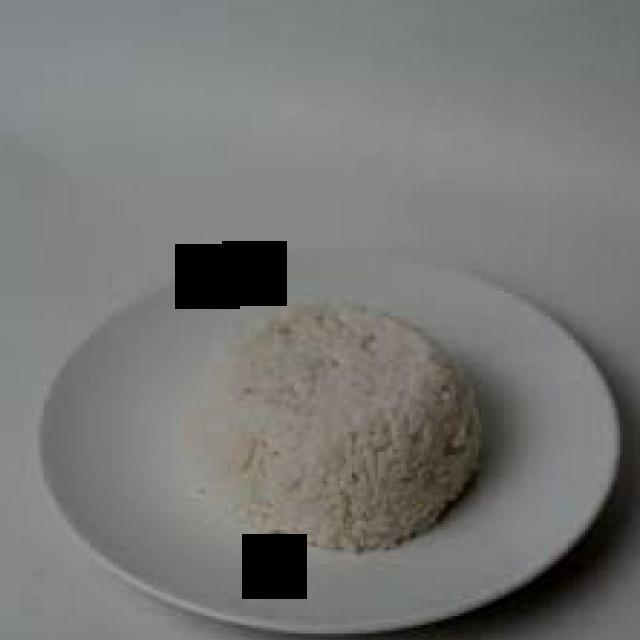Chicken -Chicken Inasal-: (227, 307, 479, 546)
